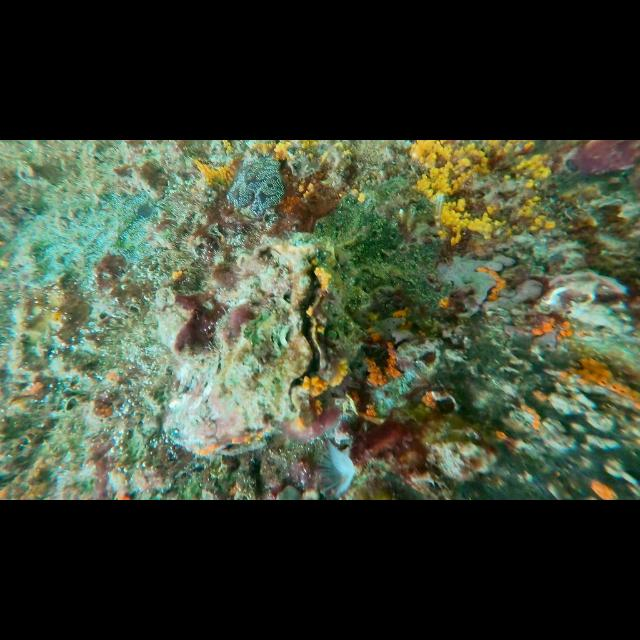Oyster-Open: (162, 240, 334, 458)
